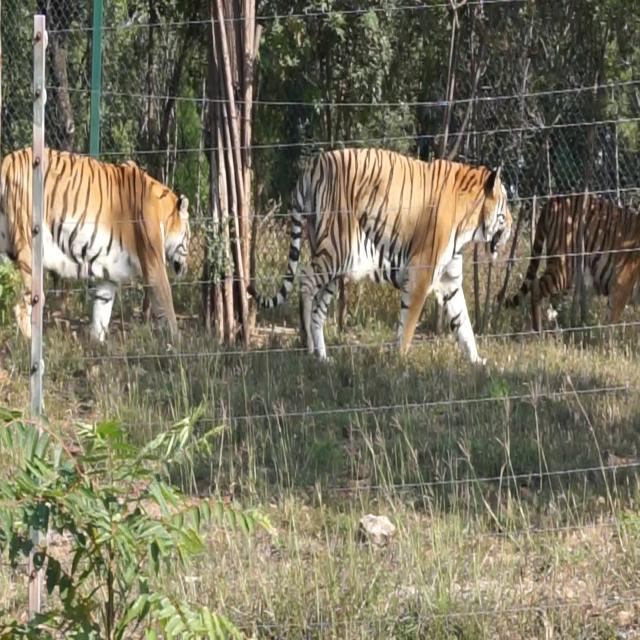Tiger: (240, 144, 512, 367), (0, 134, 192, 342), (495, 185, 640, 328)
